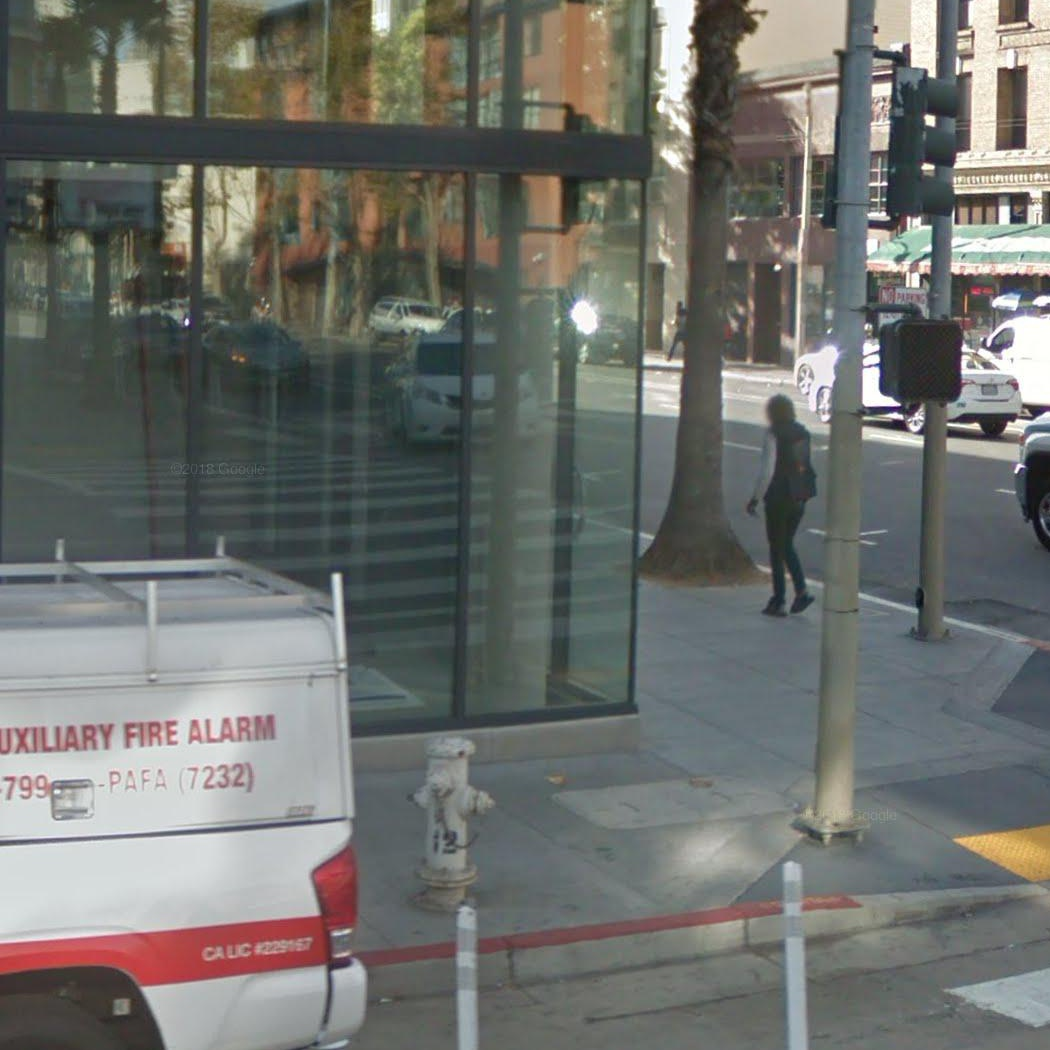No Parking: (877, 283, 929, 333)
